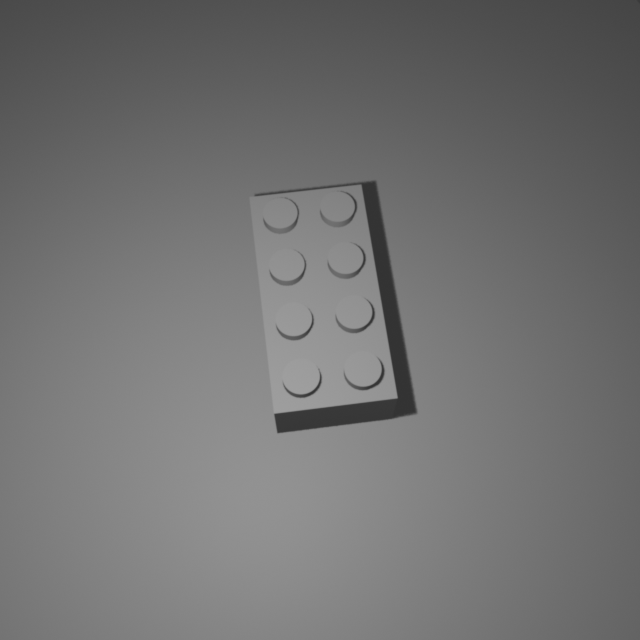lego_2x4: (249, 179, 399, 433)
